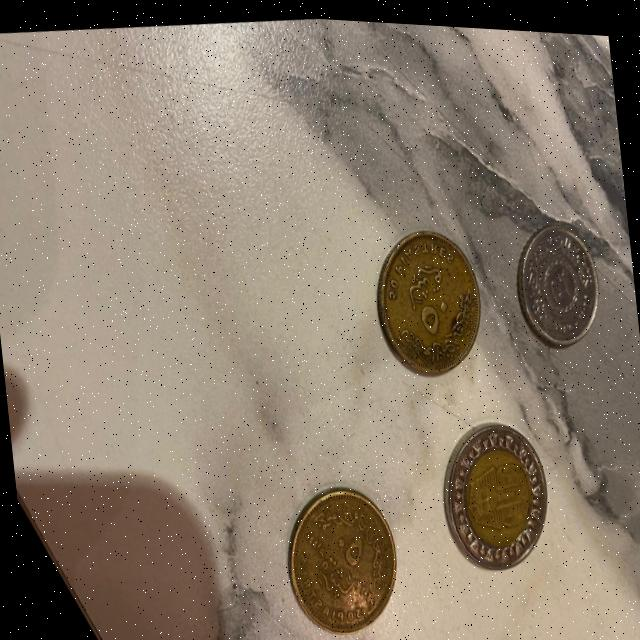Half Pound: (367, 209, 495, 381), (281, 470, 405, 640)
One Pound: (438, 400, 560, 576)
quarter pound: (510, 201, 606, 352)
